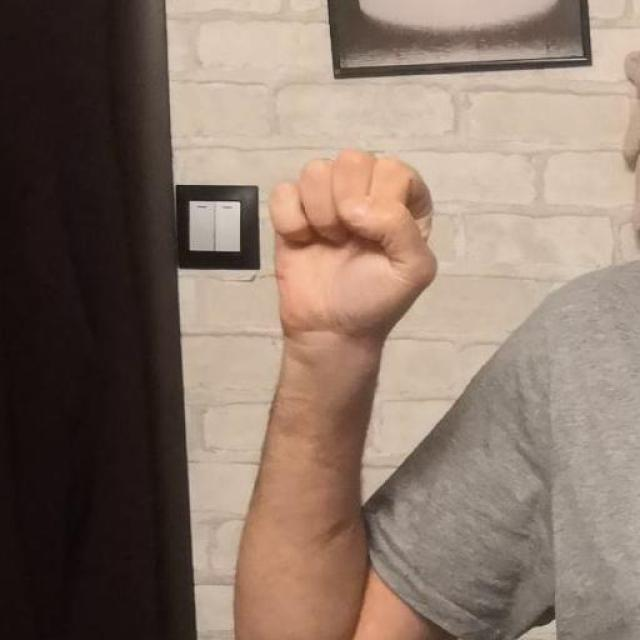hand: (268, 146, 438, 342), (620, 44, 639, 252)
